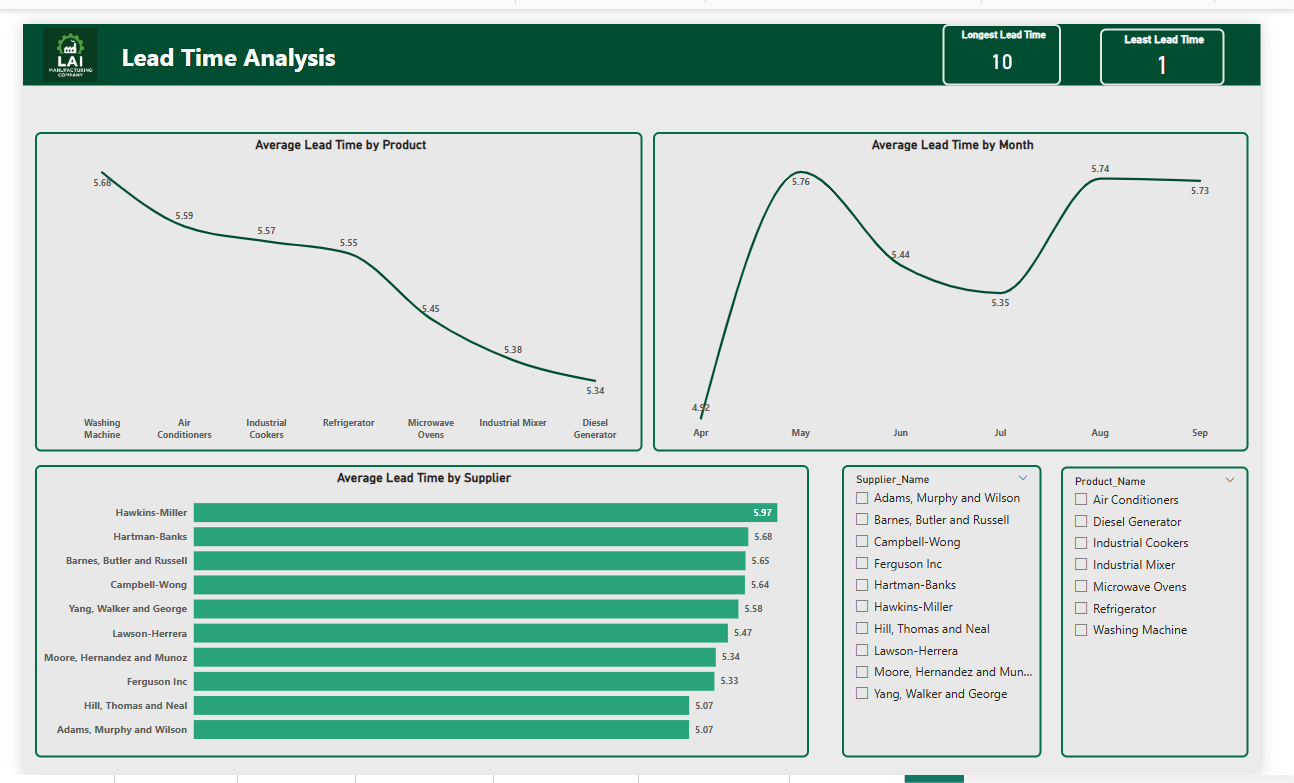

What the dashboard file says about the page in this screenshot:
{"tool":"powerbi","page":{"name":"Lead Time","canvas":[1650,1000],"ordinal":4},"visuals":[{"type":"shape","box":[0,0,1650,82],"z":0},{"type":"textbox","box":[126,16,678,66],"z":1000},{"type":"card","title":"Longest Lead Time","fields":{"Values":["Max(Operations_Data.Lead_Time)"]},"box":[1226,0,158,82],"z":2000},{"type":"card","title":"Least Lead Time","fields":{"Values":["Min(Operations_Data.Lead_Time)"]},"box":[1436,6,166,76],"z":3000},{"type":"lineChart","title":"Average Lead Time by Product","fields":{"Y":["Avg(Operations_Data.Lead_Time)"],"Category":["Product_Data.Product_Name"]},"box":[16,144,810,426],"z":4000},{"type":"lineChart","title":"Average Lead Time by Month","fields":{"Y":["Avg(Operations_Data.Lead_Time)"],"Category":["Date Table.Month Name"]},"box":[840,144,794,426],"z":5000},{"type":"barChart","title":"Average Lead Time by Supplier","fields":{"Y":["Avg(Operations_Data.Lead_Time)"],"Category":["Supplier_Data.Supplier_Name"]},"box":[16,588,1032,390],"z":6000},{"type":"slicer","fields":{"Values":["Supplier_Data.Supplier_Name"]},"box":[1092,588,266,390],"z":7000},{"type":"slicer","fields":{"Values":["Product_Data.Product_Name"]},"box":[1384,590,250,388],"z":8000},{"type":"image","box":[0,0,126,82],"z":9000}]}

Visuals, with their boxes in screenshot pixels (x1, y1, x2, y2), scaled from the page's 1650x1000 canvas onto the 1294x783 screenshot:
shape: [0, 0, 1293, 64]
textbox: [99, 13, 631, 64]
"Longest Lead Time" card: [961, 0, 1085, 64]
"Least Lead Time" card: [1126, 5, 1256, 64]
"Average Lead Time by Product" lineChart: [13, 113, 648, 446]
"Average Lead Time by Month" lineChart: [659, 113, 1281, 446]
"Average Lead Time by Supplier" barChart: [13, 460, 822, 766]
slicer - Supplier_Data.Supplier_Name: [856, 460, 1065, 766]
slicer - Product_Data.Product_Name: [1085, 462, 1281, 766]
image: [0, 0, 99, 64]
